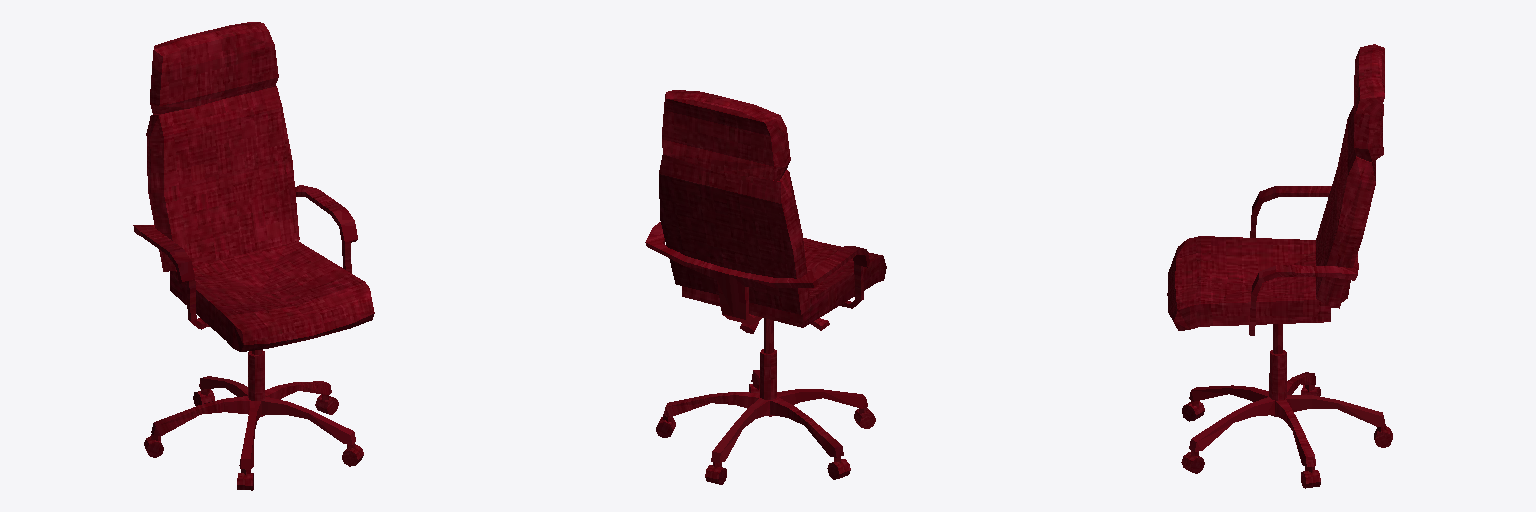
The picture shows the model from 3 angles: view 1: azimuth 30°, elevation 25°; view 2: azimuth 150°, elevation 25°; view 3: azimuth 270°, elevation 25°; orthographic projection.
Parts seen in each view (by area): view 1: office_chair; view 2: office_chair; view 3: office_chair.
Part boxes in pixels (x1,y1,x2,y2): office_chair: (133, 22, 374, 490); office_chair: (645, 90, 886, 484); office_chair: (1167, 44, 1392, 488).
Size of the model in its own units: 1.55 by 2.91 by 1.57.
1 materials, 1 textured.